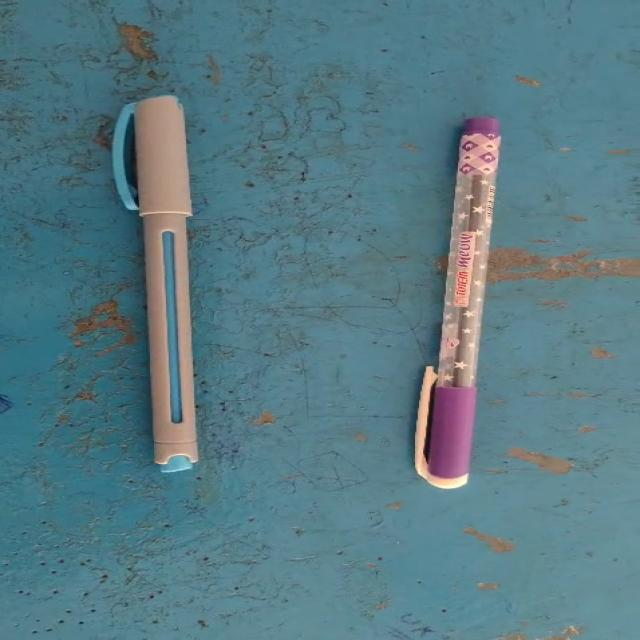pen: (61, 63, 282, 510), (377, 100, 543, 527)
